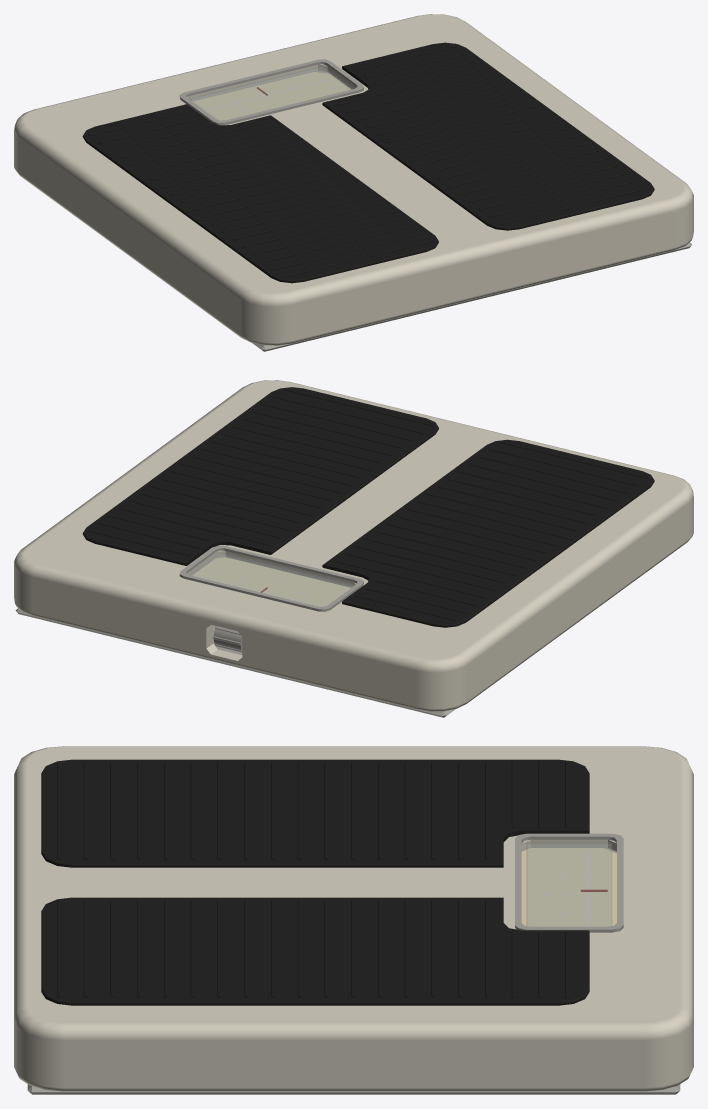
The model's file is bath-scale-40d6815e643f.glb.
3 renders of one model, top to bottom at view 1: azimuth 30°, elevation 25°; view 2: azimuth 150°, elevation 25°; view 3: azimuth 270°, elevation 25°, orthographic. The views are drawn at different scales.
Parts seen in each view (by area): view 1: enamel, rubber, glass-clear, dial-cream, brushed; view 2: enamel, rubber, glass-clear, brushed, dial-cream; view 3: enamel, rubber, glass-clear, dial-cream, brushed, decal-ink.
Part boxes in pixels (box(x1,y1,x2,y2)): enamel: box(14, 14, 693, 345); rubber: box(82, 42, 654, 283); glass-clear: box(189, 66, 352, 120); dial-cream: box(192, 72, 350, 120); brushed: box(179, 59, 692, 351); enamel: box(14, 380, 693, 711); rubber: box(82, 387, 654, 627); glass-clear: box(191, 552, 354, 606); brushed: box(15, 545, 455, 717); dial-cream: box(192, 557, 350, 605); enamel: box(14, 746, 693, 1091); rubber: box(41, 759, 589, 1005); glass-clear: box(526, 842, 611, 926); dial-cream: box(521, 848, 616, 926); brushed: box(27, 833, 680, 1094); decal-ink: box(544, 853, 592, 926).
Size of the model in its own units: 0.3 by 0.0428 by 0.3.
